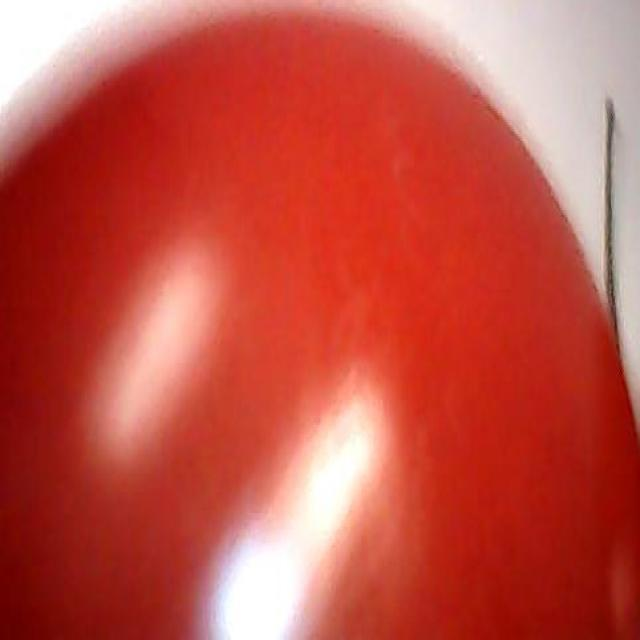Healthy: (11, 15, 640, 640)
